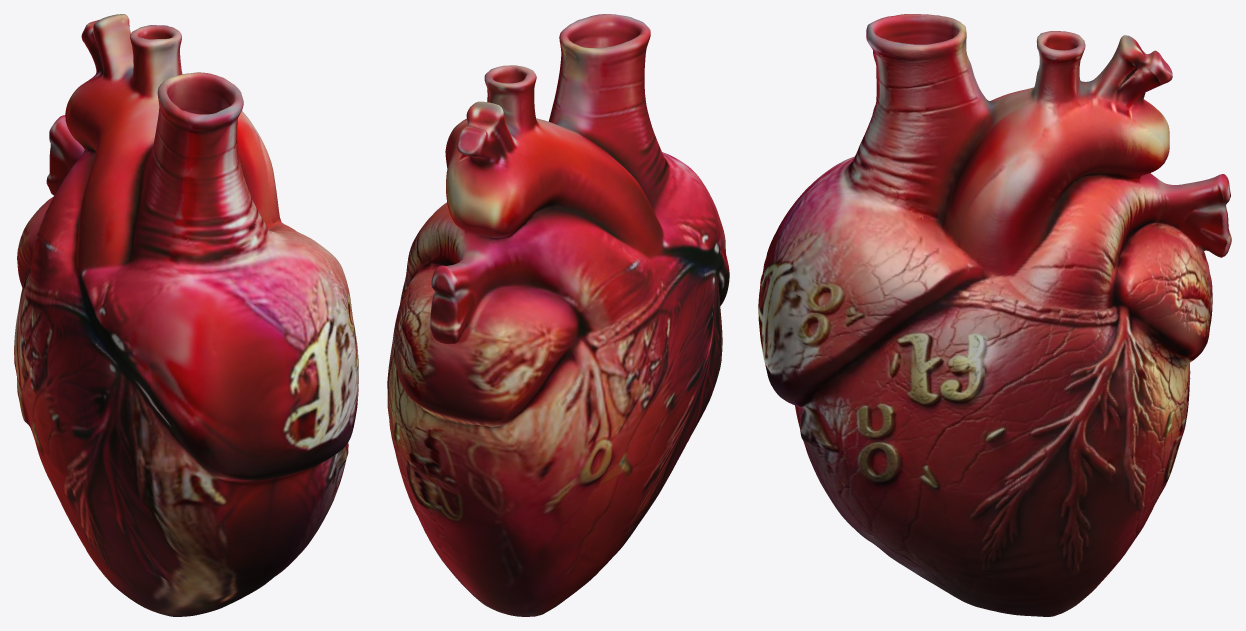
The model's file is health_heart_new.glb.
3 views of the same model, side by side, from view 1: azimuth 30°, elevation 25°; view 2: azimuth 150°, elevation 25°; view 3: azimuth 270°, elevation 25° (orthographic). The views are drawn at different scales.
Visible parts, largest first — view 1: tripo_node_27ac20bf-4f2b-46a7-affc-27f4c95f43d6; view 2: tripo_node_27ac20bf-4f2b-46a7-affc-27f4c95f43d6; view 3: tripo_node_27ac20bf-4f2b-46a7-affc-27f4c95f43d6.
Part boxes in pixels (x1,y1,x2,y2): tripo_node_27ac20bf-4f2b-46a7-affc-27f4c95f43d6: [14, 14, 358, 616]; tripo_node_27ac20bf-4f2b-46a7-affc-27f4c95f43d6: [387, 14, 729, 616]; tripo_node_27ac20bf-4f2b-46a7-affc-27f4c95f43d6: [758, 14, 1231, 616].
Bounding box in the file's own units: 0.3755 × 0.818 × 0.6137.
1 material, 1 textured.
